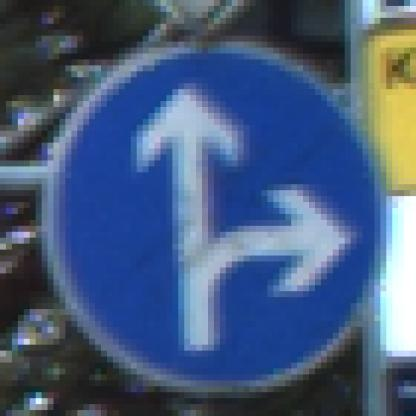Straight or Right: (43, 37, 381, 381)
